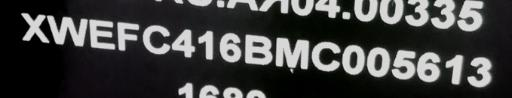letter: (46, 12, 88, 47), (273, 33, 309, 71), (309, 36, 341, 72), (140, 20, 170, 55), (19, 11, 49, 44), (88, 15, 116, 50), (416, 47, 444, 82), (390, 45, 416, 82), (243, 32, 271, 66), (218, 27, 242, 65), (342, 38, 366, 76), (443, 47, 467, 85), (468, 51, 494, 86), (366, 41, 390, 78), (171, 23, 195, 59), (196, 25, 218, 61), (115, 19, 139, 51)
